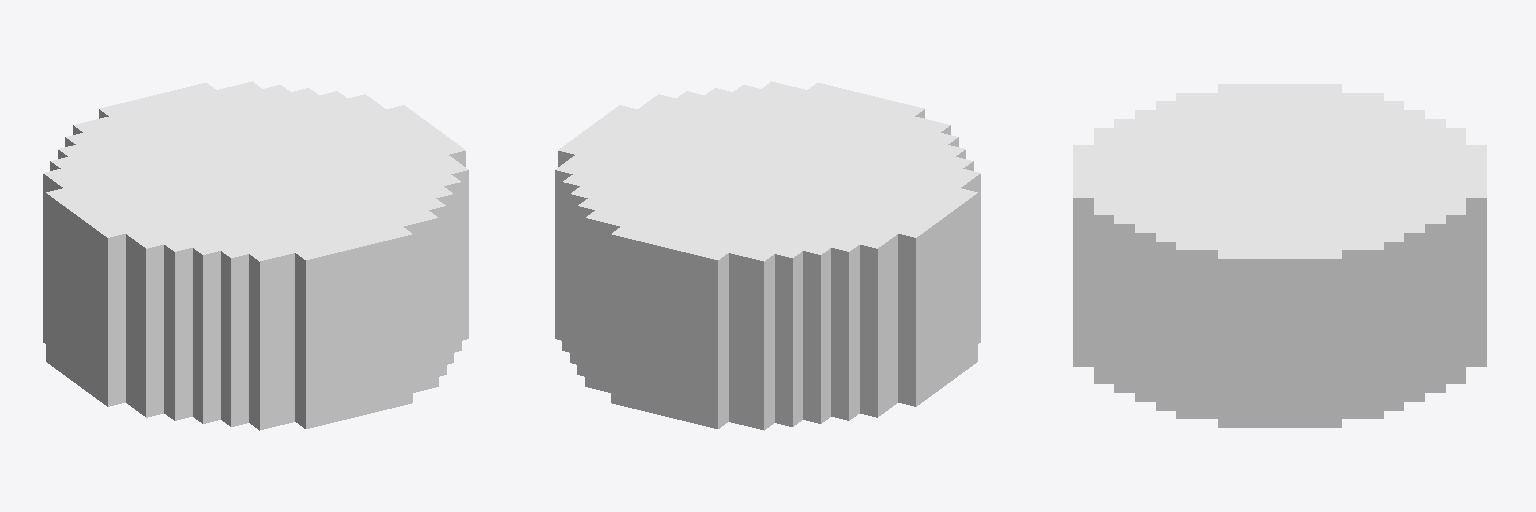
Rendered from PuntaTubo.obj.
The picture shows the model from 3 angles: view 1: azimuth 30°, elevation 25°; view 2: azimuth 150°, elevation 25°; view 3: azimuth 270°, elevation 25°; orthographic projection.
Visible parts, largest first — view 1: object 1; view 2: object 1; view 3: object 1.
Boxes of the visible parts, x1=… form: object 1: x1=43, y1=81, x2=468, y2=430; object 1: x1=555, y1=81, x2=980, y2=430; object 1: x1=1073, y1=84, x2=1486, y2=427.
Bounding box in the file's own units: 2 × 0.9 × 2.